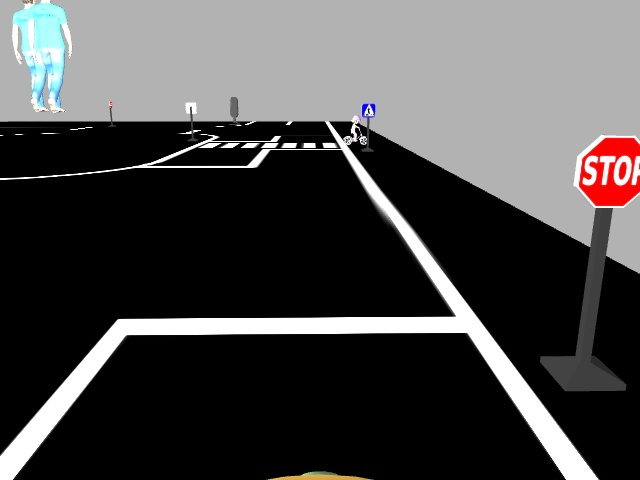Stop: (574, 129, 639, 210)
